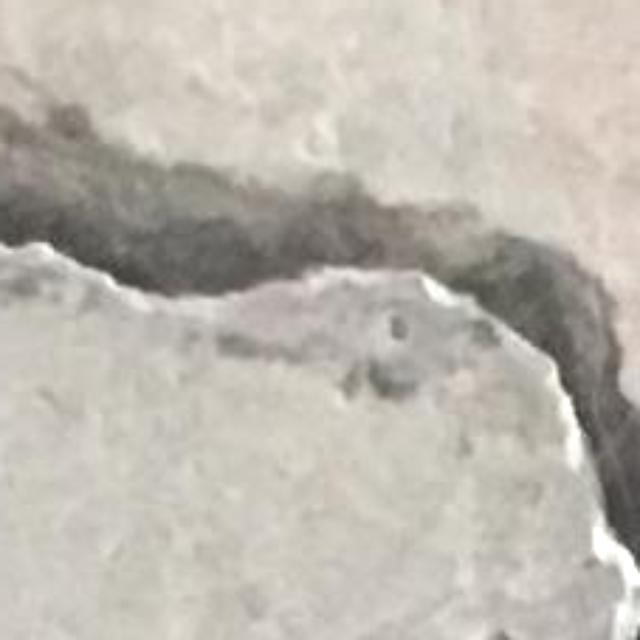crack: (0, 107, 639, 562)
